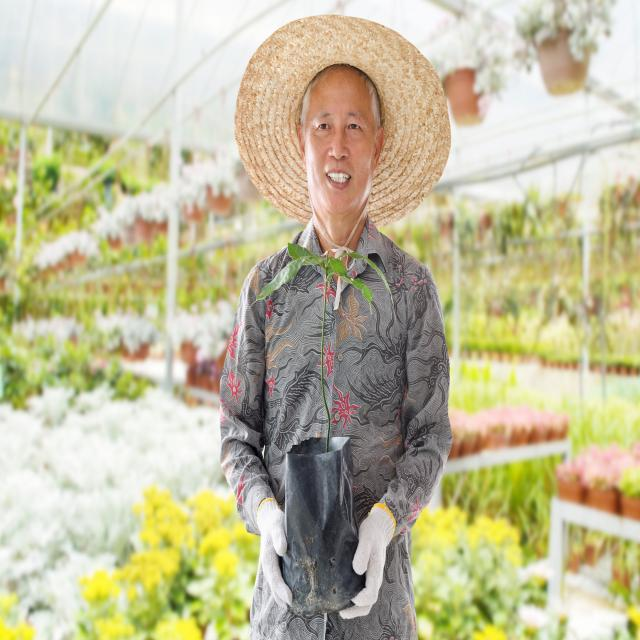Male: (304, 72, 374, 214)
